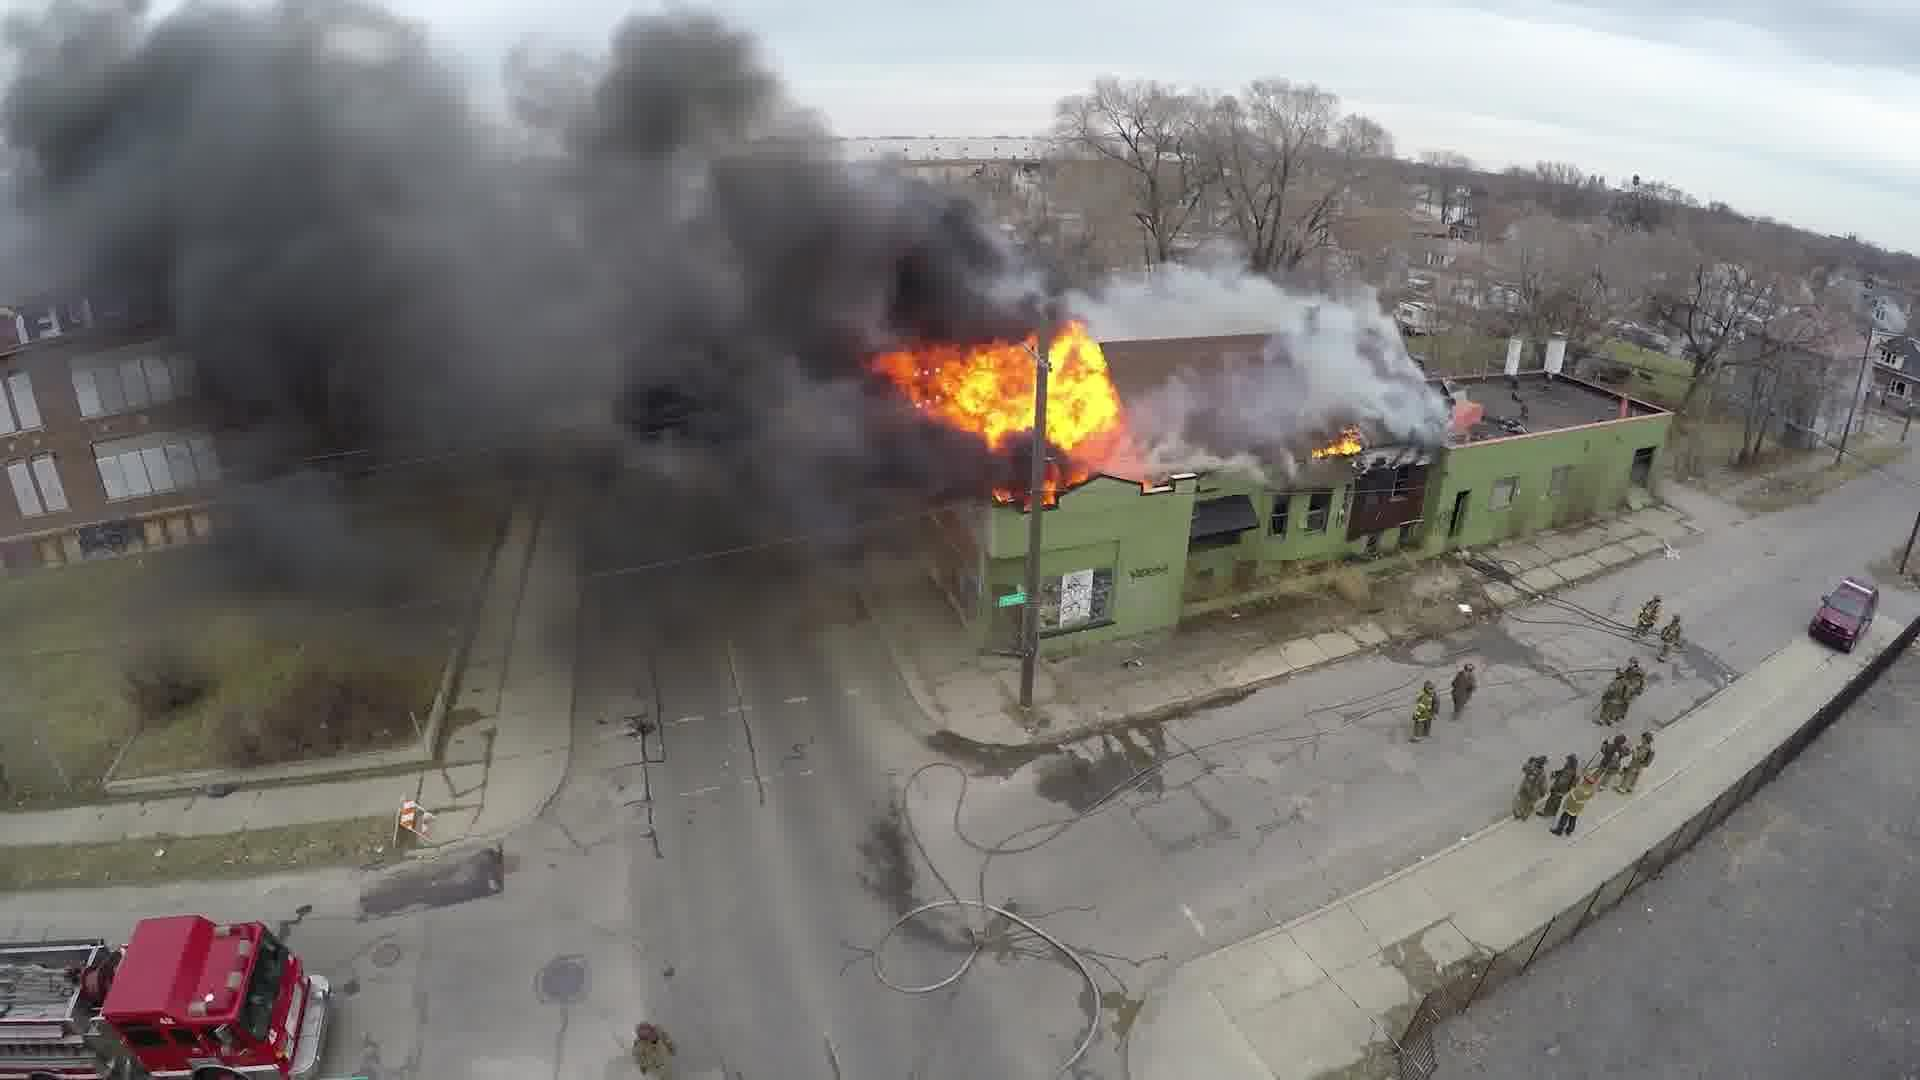fire: (826, 284, 1156, 492)
